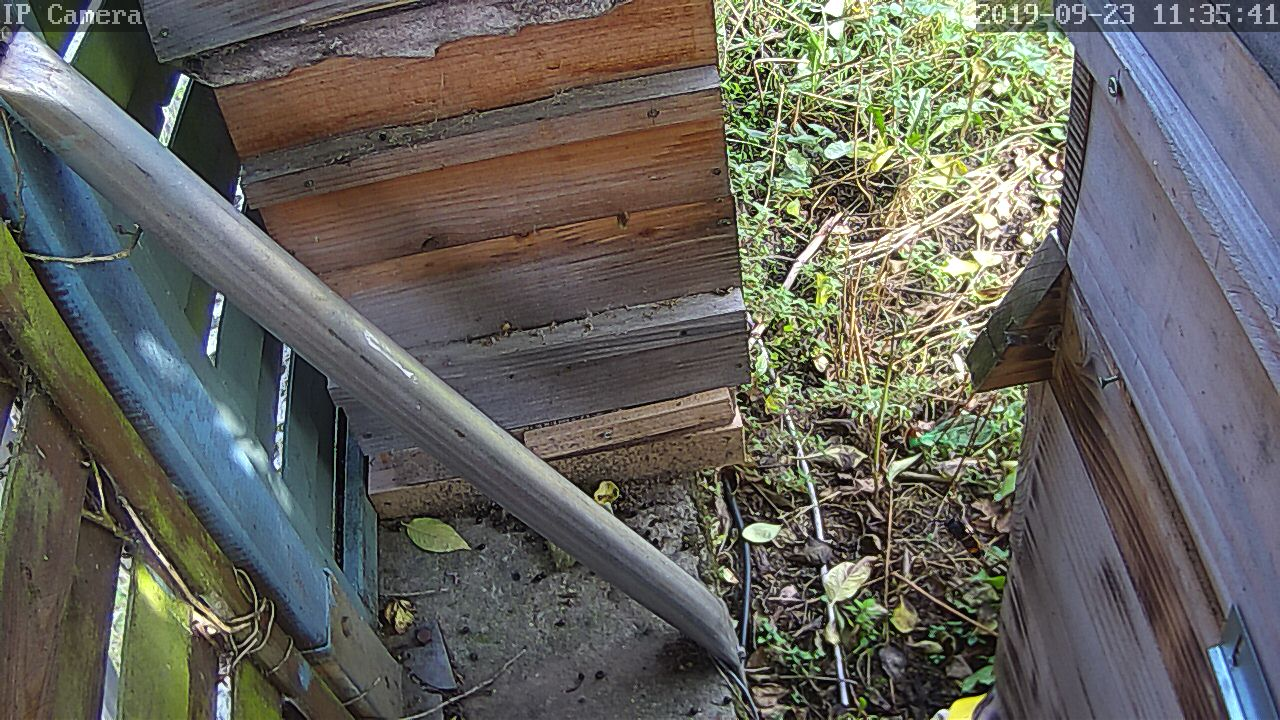hornet: (955, 508, 998, 560)
